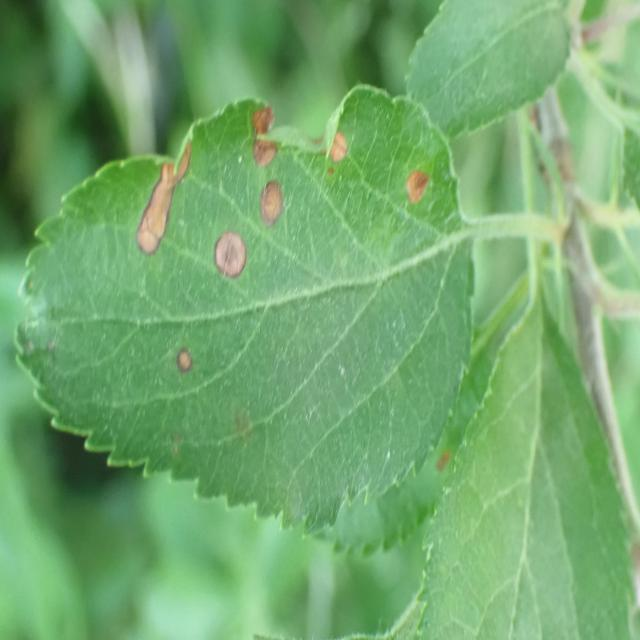Black Rot: (120, 130, 200, 268), (304, 101, 350, 180), (209, 223, 252, 298), (397, 152, 437, 225), (254, 173, 292, 229), (165, 338, 206, 387), (241, 100, 288, 138), (238, 142, 292, 174)
scab: (108, 402, 271, 491)
